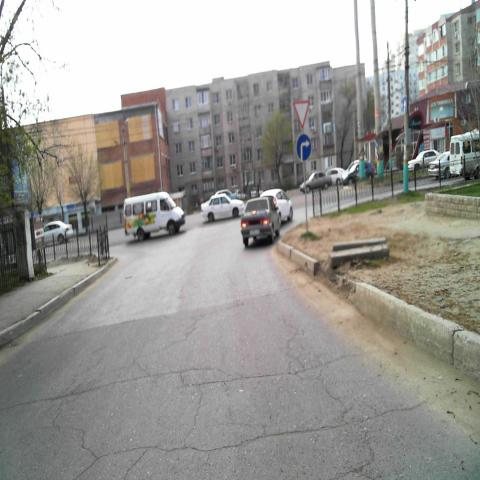4_1_2: (296, 132, 312, 161)
